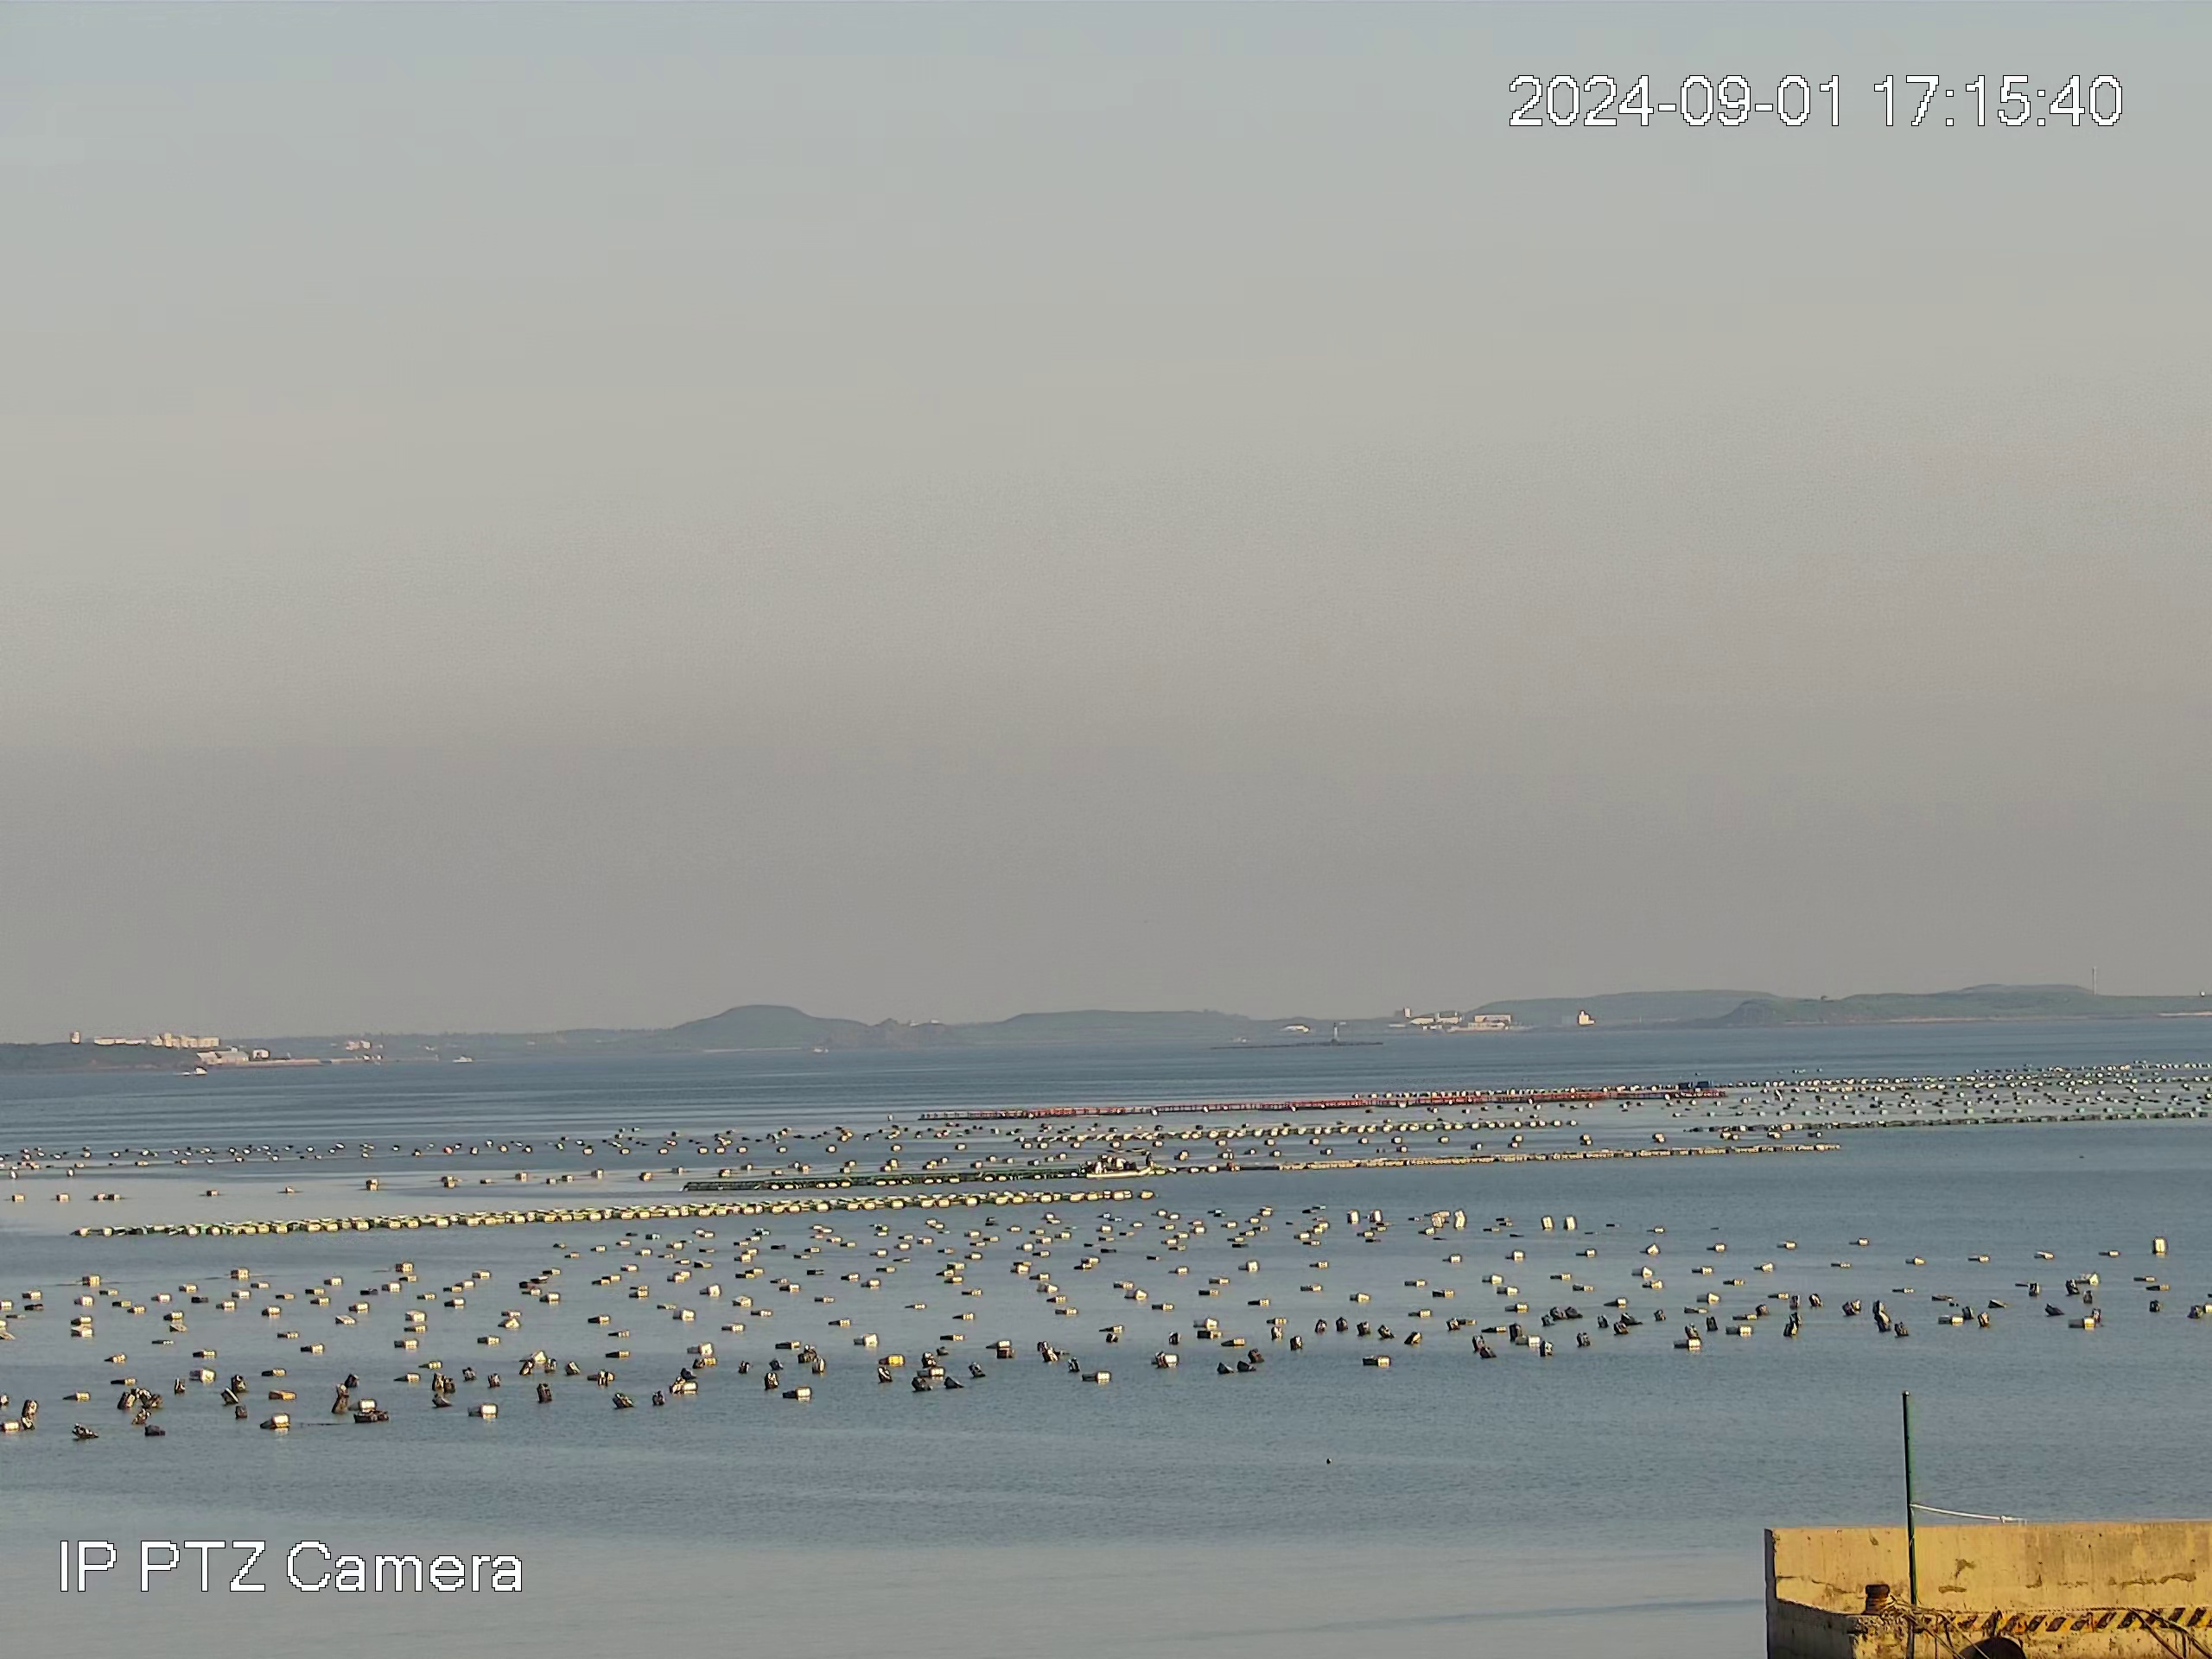boat: (1083, 1148, 1153, 1176)
